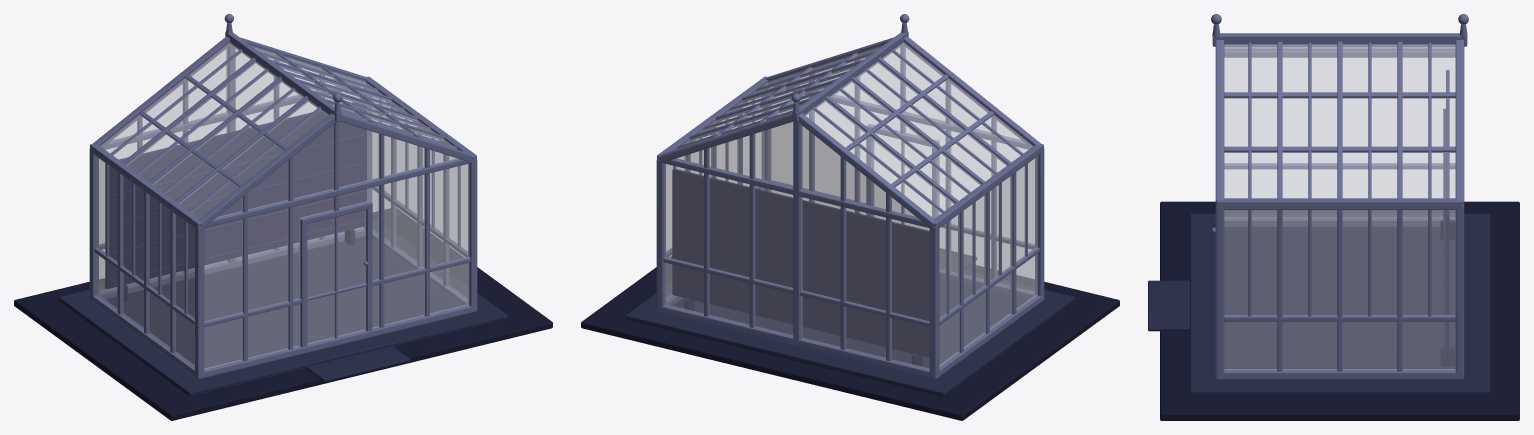
Rendered from house.glb.
The picture shows the model from 3 angles, left to right: view 1: azimuth 30°, elevation 25°; view 2: azimuth 150°, elevation 25°; view 3: azimuth 270°, elevation 25°; orthographic projection. The views are drawn at different scales.
Visible parts, largest first — view 1: Frame, Glass_Gables, PlinthTop, LedgerWall, Glass_Walls, Glass_Roof, Plinth; view 2: Glass_Gables, Frame, LedgerWall, Glass_Roof, Plinth, PlinthTop, Glass_Walls; view 3: Glass_Walls, PlinthTop, Frame, Glass_Roof, Plinth, LedgerWall.
Part boxes in pixels (x1,y1,x2,y2): Frame: (89, 14, 477, 379); Glass_Gables: (99, 48, 469, 369); PlinthTop: (59, 220, 507, 397); LedgerWall: (105, 102, 366, 301); Glass_Walls: (96, 97, 467, 366); Glass_Roof: (101, 42, 458, 218); Plinth: (14, 208, 552, 420); Glass_Gables: (664, 47, 1034, 369); Frame: (656, 14, 1044, 379); LedgerWall: (672, 168, 929, 366); Glass_Roof: (675, 42, 1032, 218); Plinth: (581, 256, 1119, 420); PlinthTop: (626, 248, 1074, 397); Glass_Walls: (666, 97, 1037, 366); Glass_Walls: (1224, 58, 1455, 370); PlinthTop: (1148, 213, 1489, 395); Frame: (1211, 14, 1468, 379); Glass_Roof: (1224, 44, 1455, 197); Plinth: (1160, 201, 1519, 420); LedgerWall: (1440, 70, 1455, 366).
Bounding box in the file's own units: 4.2 × 2.77 × 3.1.
